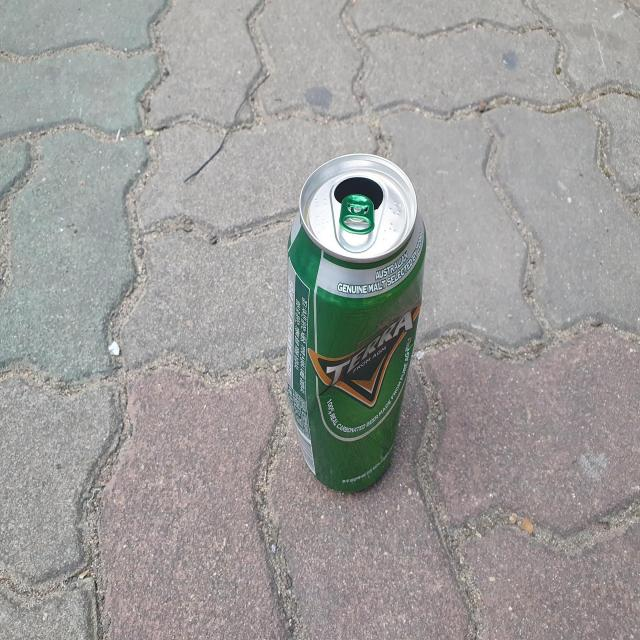can: (287, 153, 427, 492)
